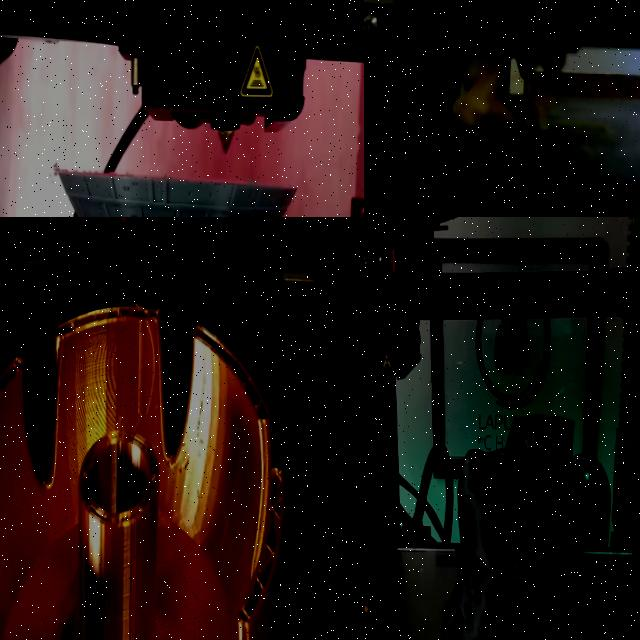spaghetti: (450, 36, 558, 132)
